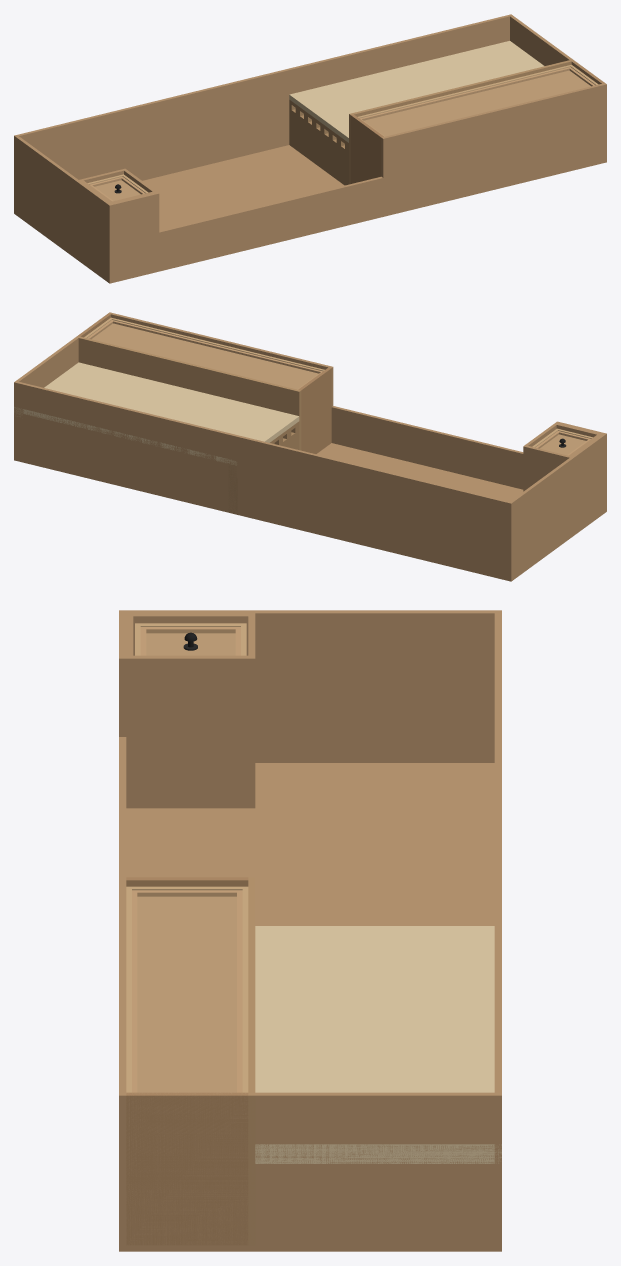
The model's file is soundbox.glb.
3 renders of one model, top to bottom at view 1: azimuth 30°, elevation 25°; view 2: azimuth 150°, elevation 25°; view 3: azimuth 270°, elevation 25°, orthographic. The views are drawn at different scales.
Bounding box in the file's own units: 1.44 × 0.2204 × 0.4812.
